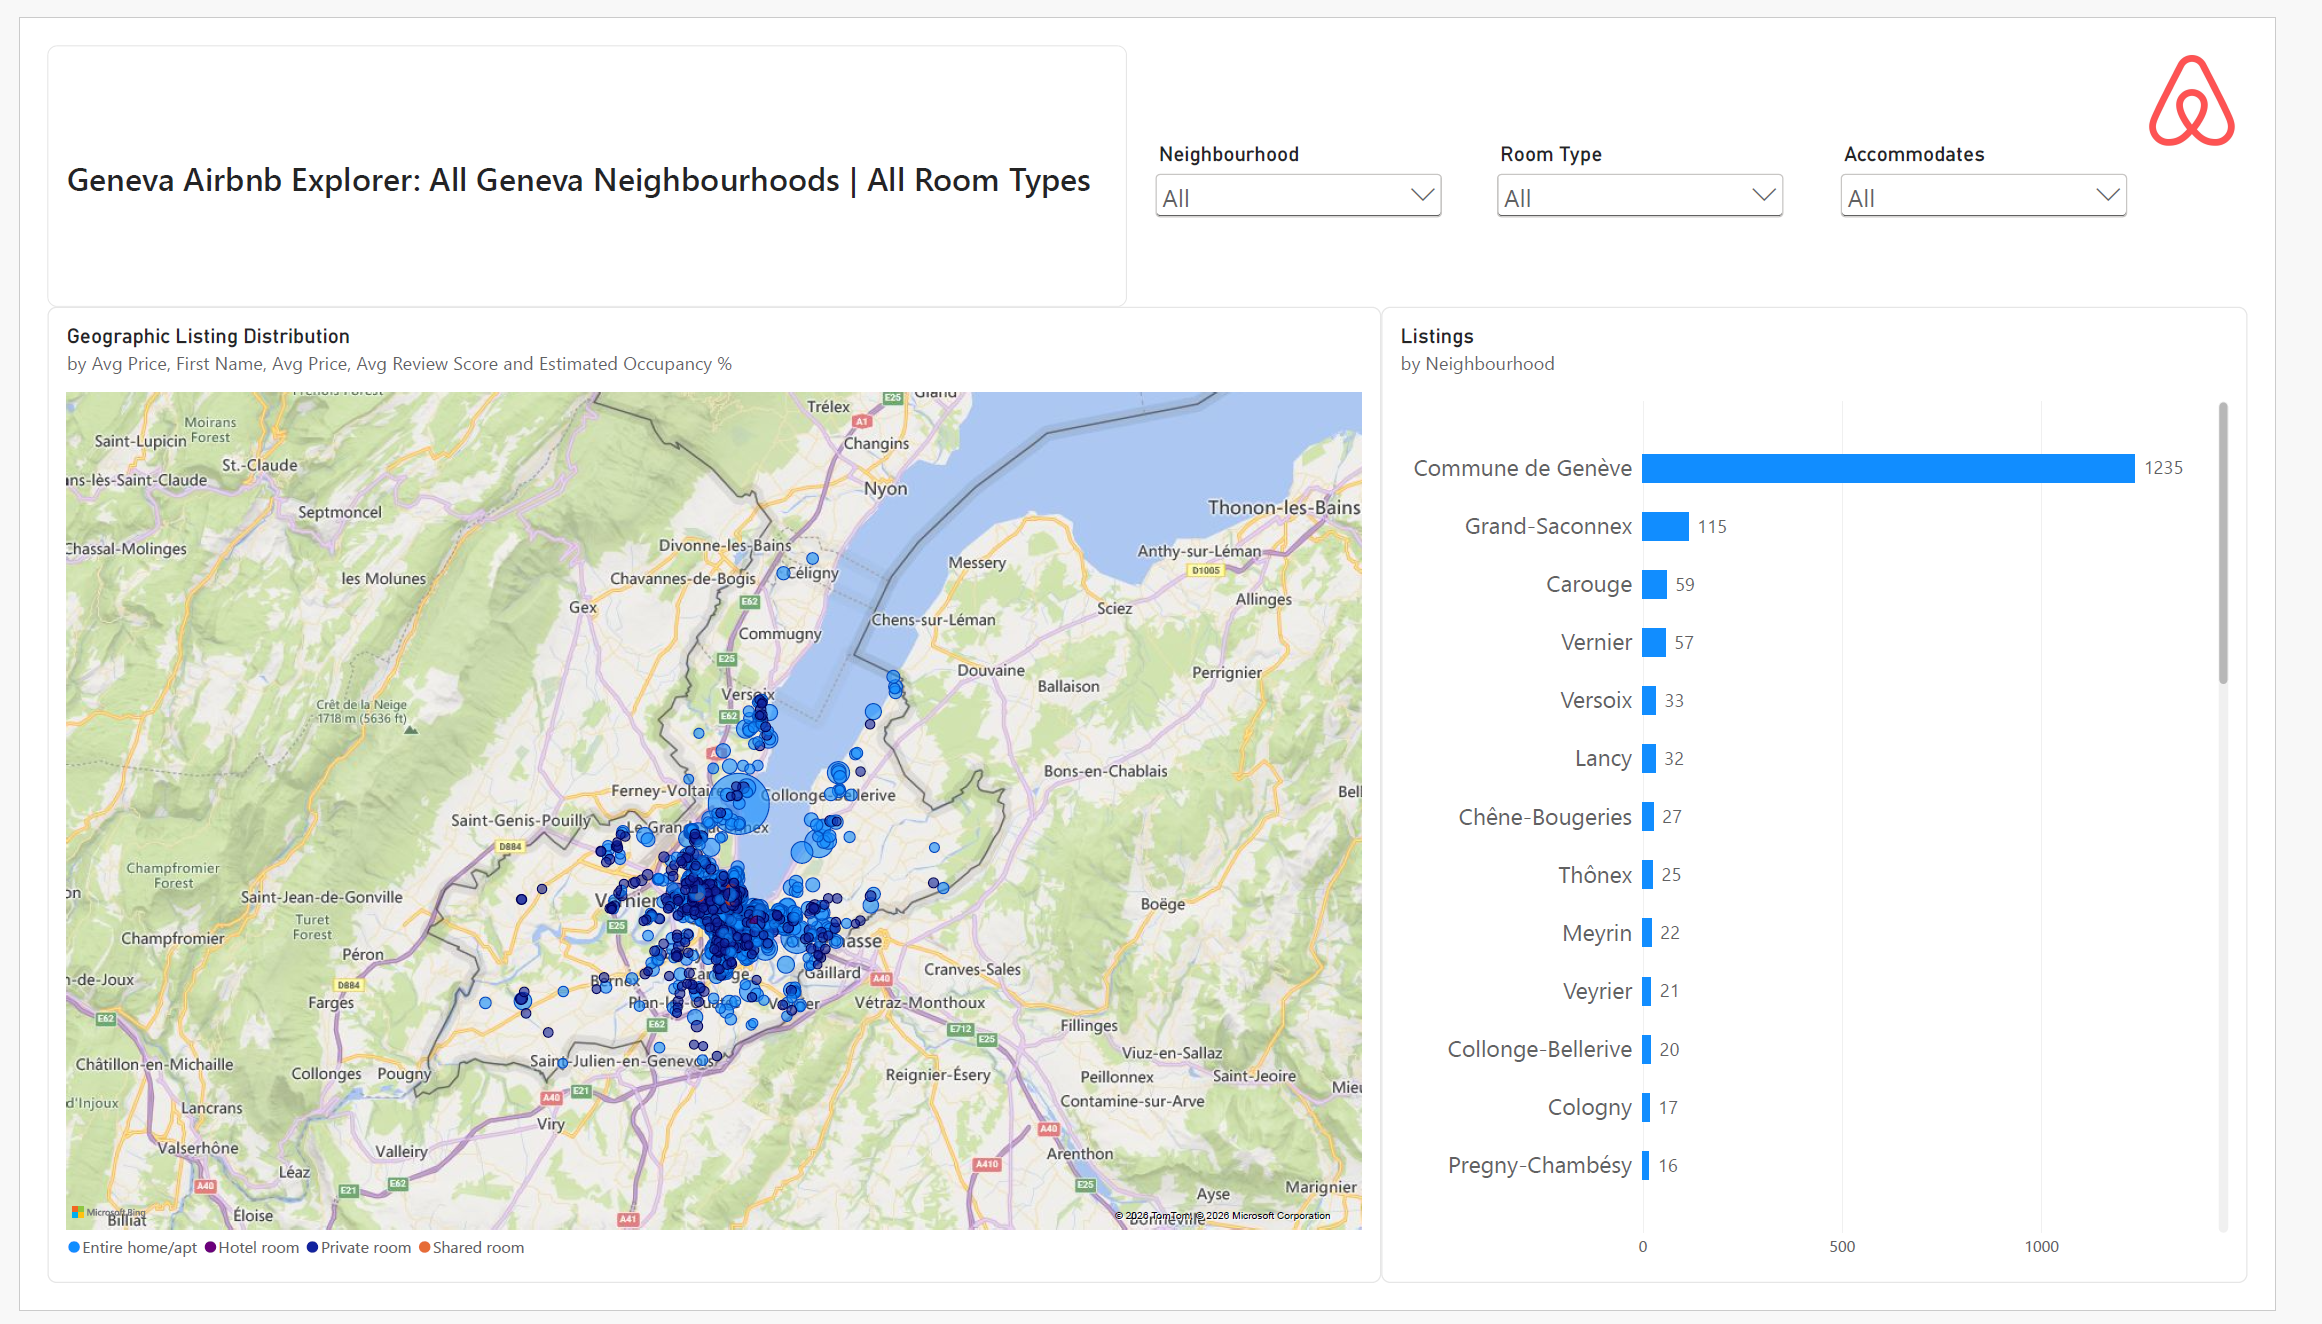

The page's visual inventory and layout, read from the dashboard file:
{"tool":"powerbi","page":{"name":"Map View","canvas":[1920,1080],"ordinal":1},"visuals":[{"type":"image","box":[1824,0,95,95],"z":0},{"type":"slicer","fields":{"Values":["FactListings.Accommodates"]},"box":[1540.4,64,299.6,114],"z":1000},{"type":"cardVisual","fields":{"Data":["_Measures.Dynamic Report Title"]},"box":[0,0,942,228],"z":2000},{"type":"slicer","fields":{"Values":["DimRoomType.Room Type"]},"box":[1240.4,64,299.6,114],"z":3000},{"type":"slicer","fields":{"Values":["DimNeighbourhood.Neighbourhood Cleansed"]},"box":[942,64,299.6,114],"z":4000},{"type":"map","title":"Geographic Listing Distribution","fields":{"Series":["DimRoomType.Room Type"],"Size":["_Measures.Avg Price"],"X":["FactListings.Longitude"],"Y":["FactListings.Latitude"]},"box":[0,228,1164,852],"z":5000},{"type":"clusteredBarChart","fields":{"Category":["DimNeighbourhood.Neighbourhood Cleansed"],"Y":["_Measures.Listings"]},"box":[1164,228,756,852],"z":6000}]}

Visuals, with their boxes in screenshot pixels (x1, y1, x2, y2), scaled from the page's 1920x1080 canvas onto the 2322x1324 screenshot:
image: <region>2206, 0, 2321, 116</region>
slicer - FactListings.Accommodates: <region>1863, 78, 2225, 218</region>
cardVisual - _Measures.Dynamic Report Title: <region>0, 0, 1139, 280</region>
slicer - DimRoomType.Room Type: <region>1500, 78, 1862, 218</region>
slicer - DimNeighbourhood.Neighbourhood Cleansed: <region>1139, 78, 1502, 218</region>
"Geographic Listing Distribution" map: <region>0, 280, 1408, 1323</region>
clusteredBarChart - DimNeighbourhood.Neighbourhood Cleansed x _Measures.Listings: <region>1408, 280, 2321, 1323</region>
